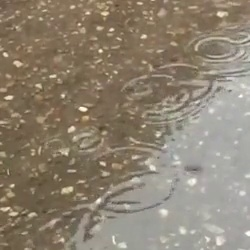drop: (89, 145, 177, 213), (123, 74, 188, 115), (150, 64, 215, 103), (195, 37, 245, 65), (71, 127, 104, 152), (222, 28, 250, 46), (44, 138, 68, 158), (181, 163, 203, 175)
